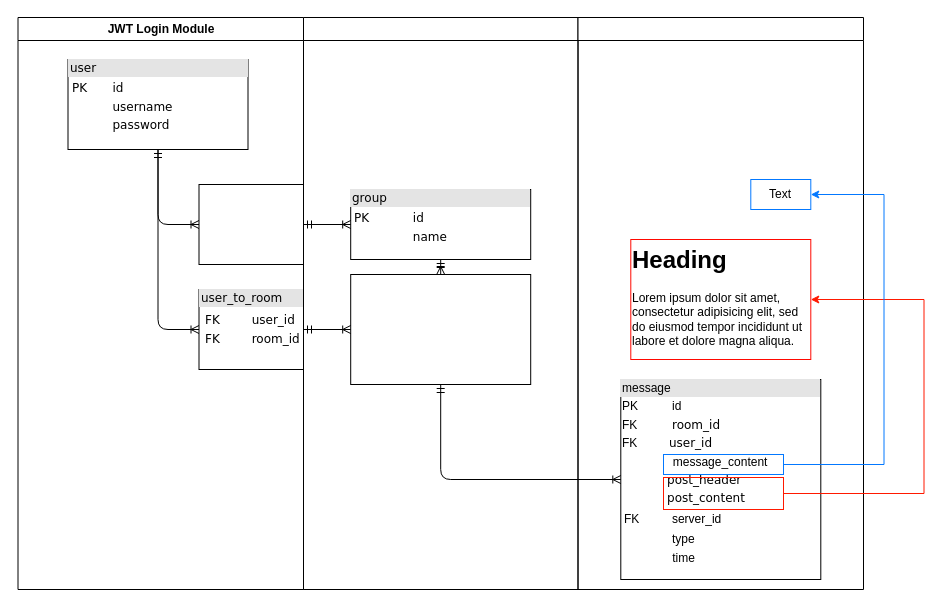
This 949x607 diagram has some shape labels left out. Here are the shapes that lost their labels. From the top down, the box of each, then its label:
(198, 184, 304, 264): user_to_group FK user_id FK group_id
(302, 16, 578, 590): Grouping Module
(577, 16, 864, 590): Message Module
(350, 274, 531, 384): room PK id name FK group_id visibility
